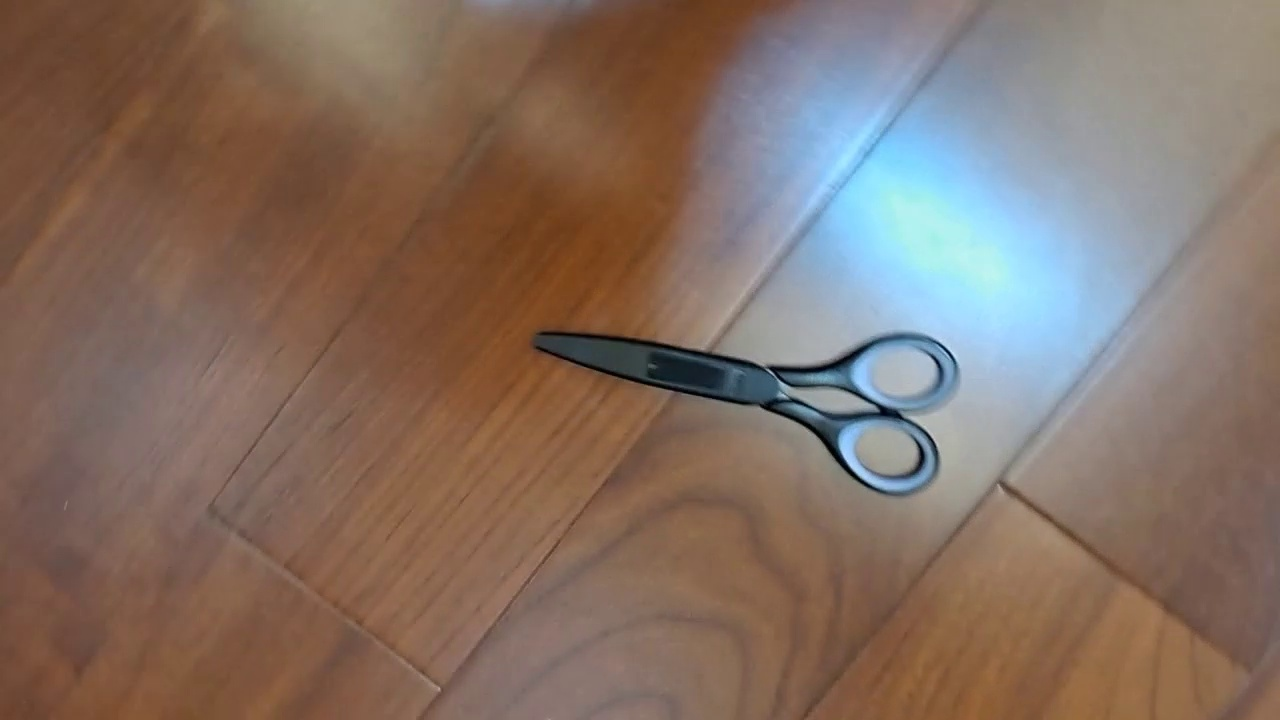scissors: (530, 331, 961, 495)
